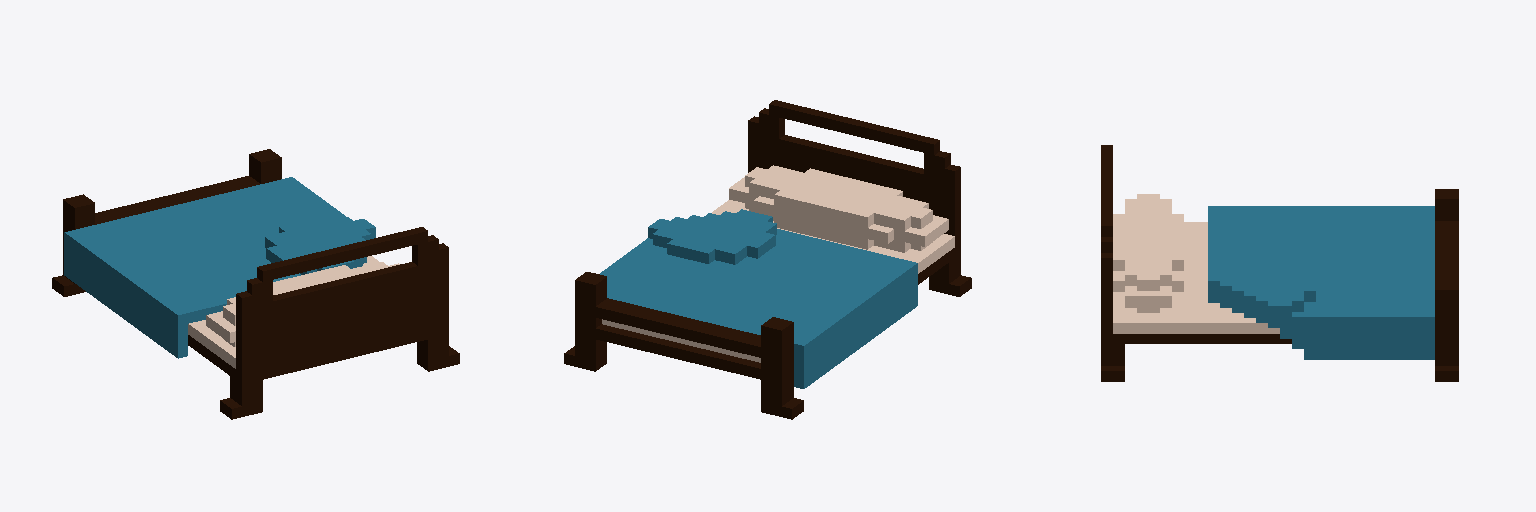
3 views of the same model, side by side, from view 1: azimuth 30°, elevation 25°; view 2: azimuth 150°, elevation 25°; view 3: azimuth 270°, elevation 25° (orthographic).
Visible parts, largest first — view 1: Krovat; view 2: Krovat; view 3: Krovat.
Boxes of the visible parts, x1,y1,x2,y2 form: Krovat: [52, 149, 459, 419]; Krovat: [564, 100, 971, 419]; Krovat: [1101, 145, 1458, 381].
Bounding box in the file's own units: 2.2 × 1.3 × 3.
Materials: 1 (1 with a texture image).